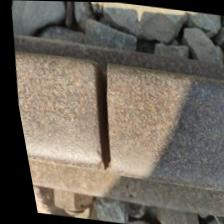person: (35, 50, 165, 181)
